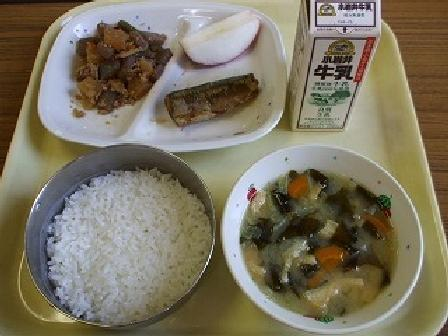Apple: (169, 6, 267, 72)
Fish: (163, 64, 272, 147)
Milk: (281, 0, 392, 141)
Rice: (33, 153, 214, 327)
Soups: (245, 160, 419, 321)
cooked food meat with vegetables: (62, 9, 175, 124)
